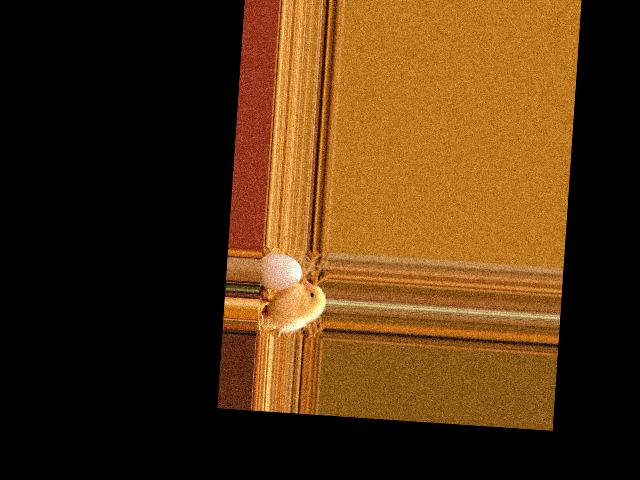egg: (258, 252, 303, 292)
